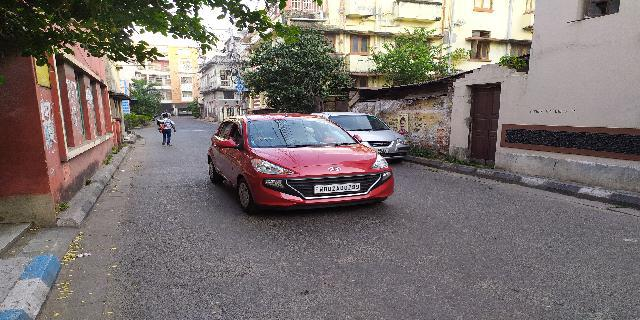Car: (204, 106, 396, 217), (333, 109, 419, 164)
